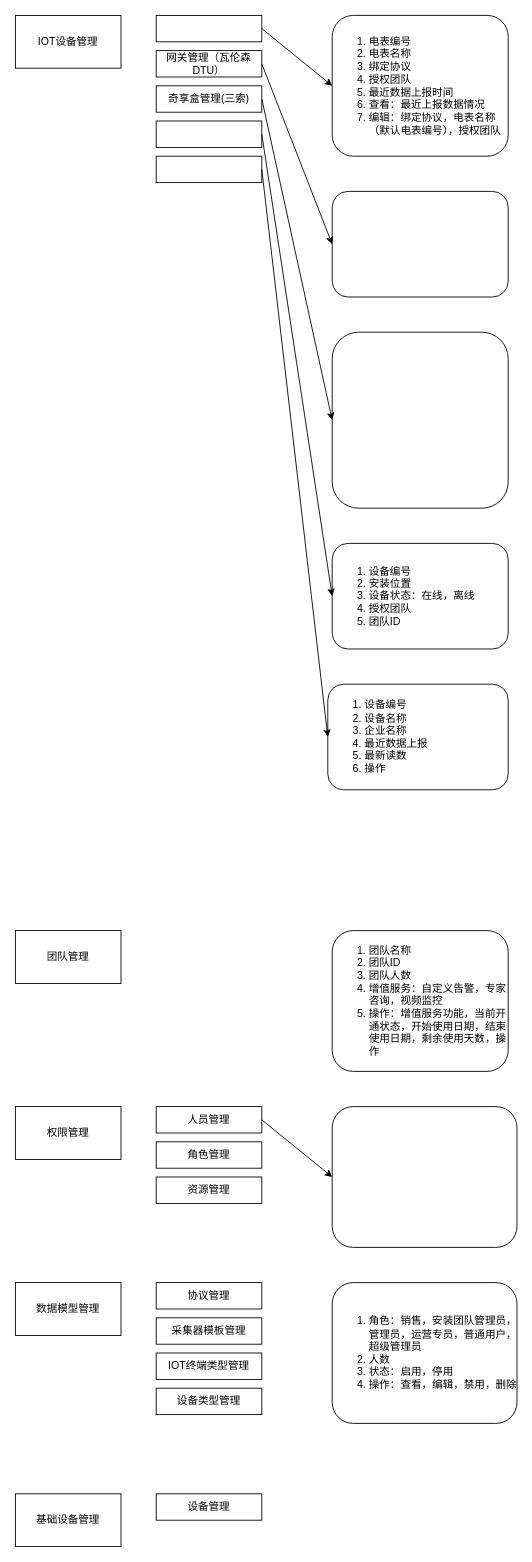
The diagram is 532 pixels wide and 1562 high, and some of its shapes have lost their labels. Here are the shapes that lost their labels. From the top down, the centre of each, then its label:
pixel 208 28: 电表管理
pixel 208 133: 摄像头管理
pixel 208 169: 读表器管理
pixel 419 244: 网关编号 网关名称 最近数据上报时间 查看：最近上报数据情况 编辑：网关名称（默认电表编号）
pixel 419 419: 终端编号 终端名称 盒子状态：在线，离线 系统状态 安装位置 企业名称 企业ID SIM卡号码 创建时间 最近数据上报时间 操作：盒子详情，编辑，报废，异常详情
pixel 424 1176: 姓名 手机号码 角色：普通用户，管理员，超级管理员，销售，安装团队管理员，运营专员 创建时间 最近登录时间 状态 操作：查看，编辑，停用，删除
